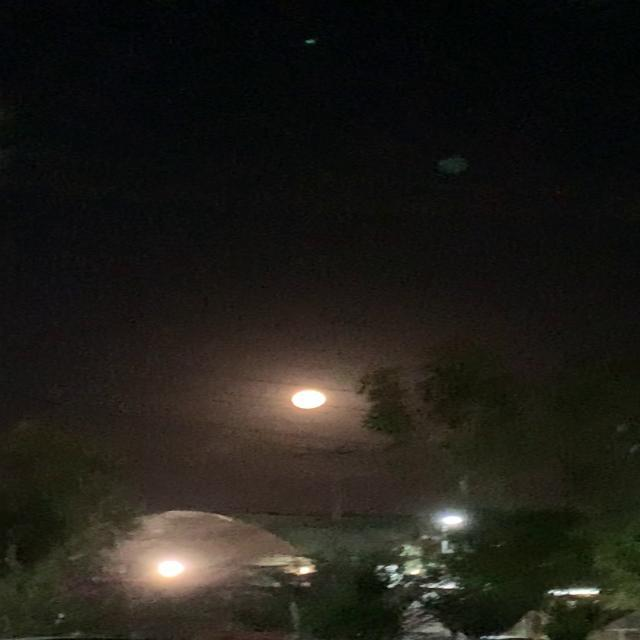moon: (284, 392, 326, 416)
